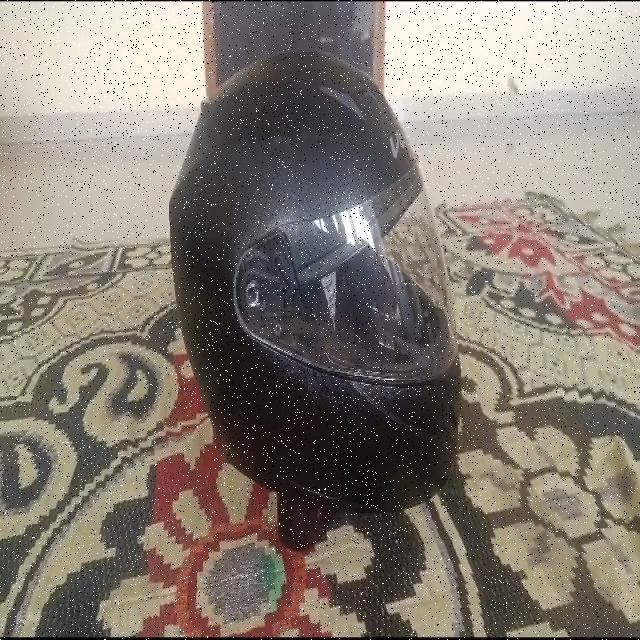Helmet: (170, 51, 460, 544)
